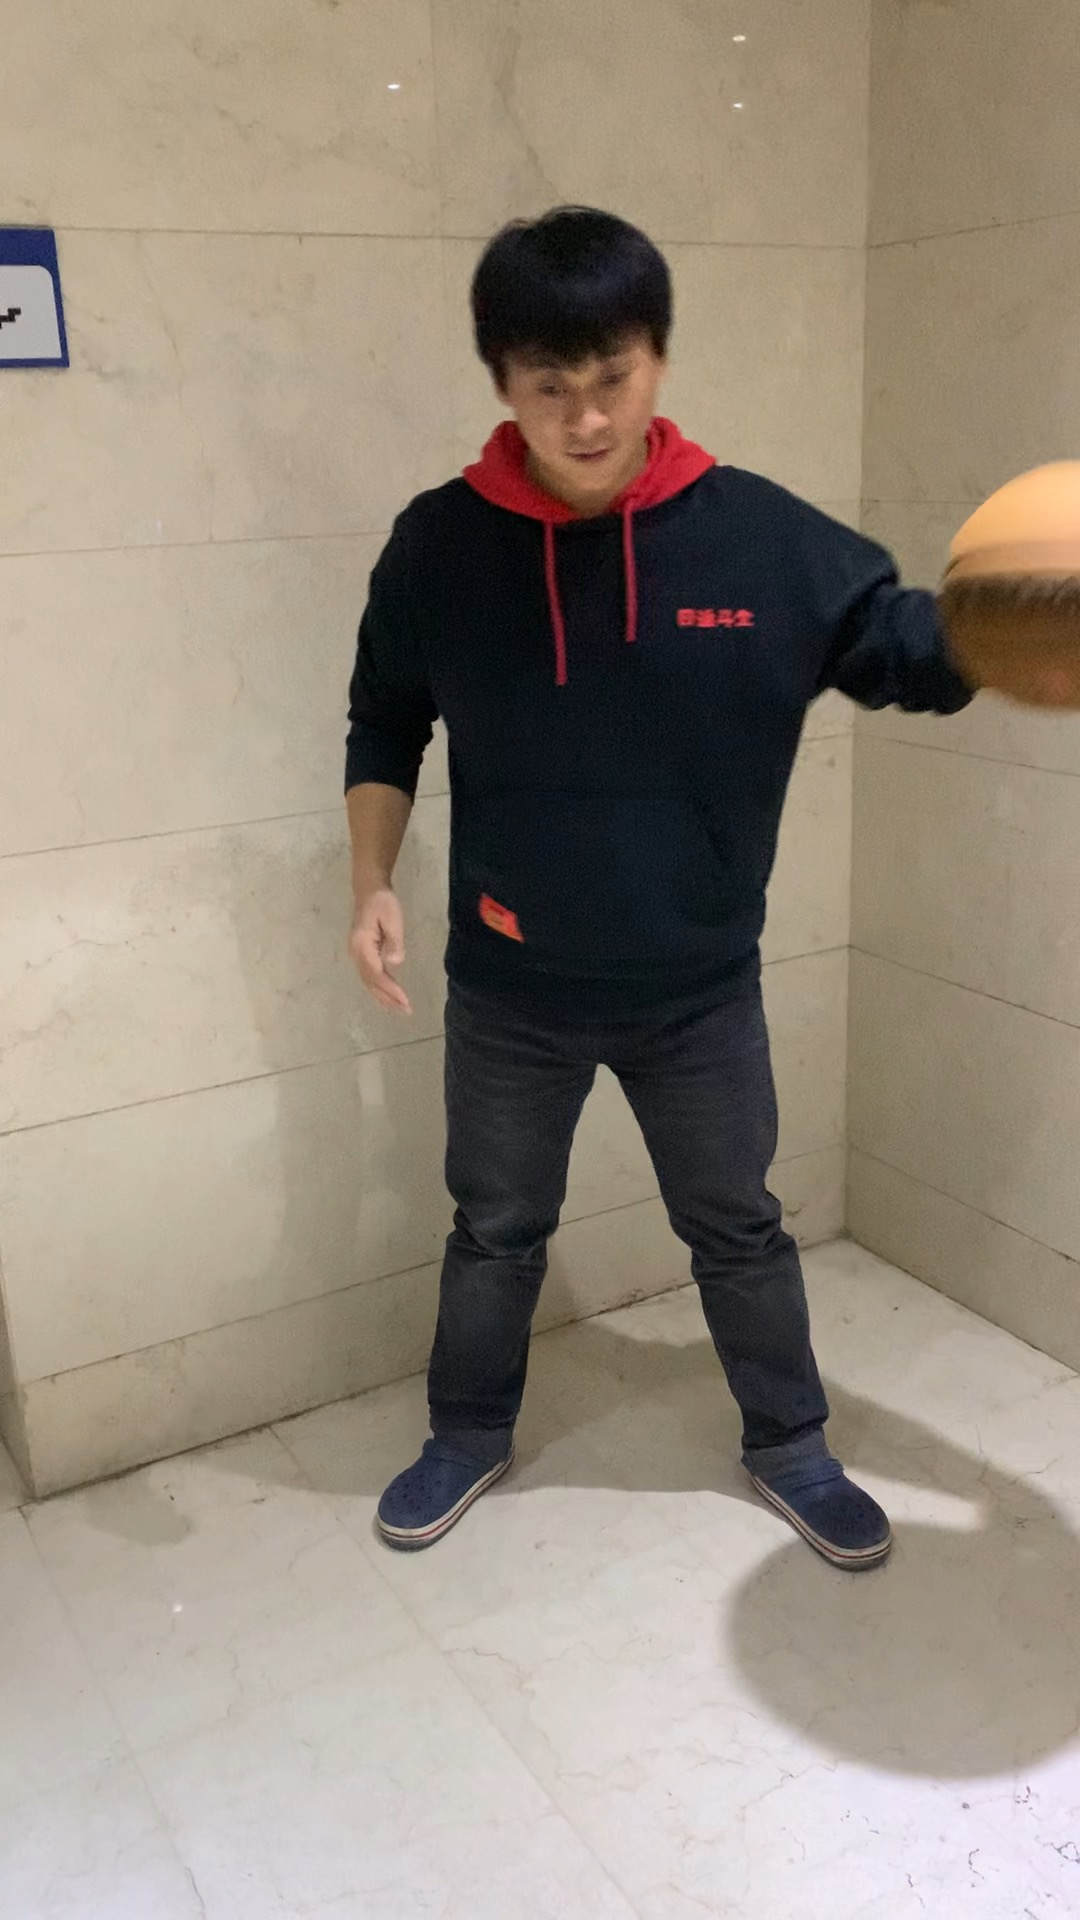ball: (935, 450, 1080, 723)
